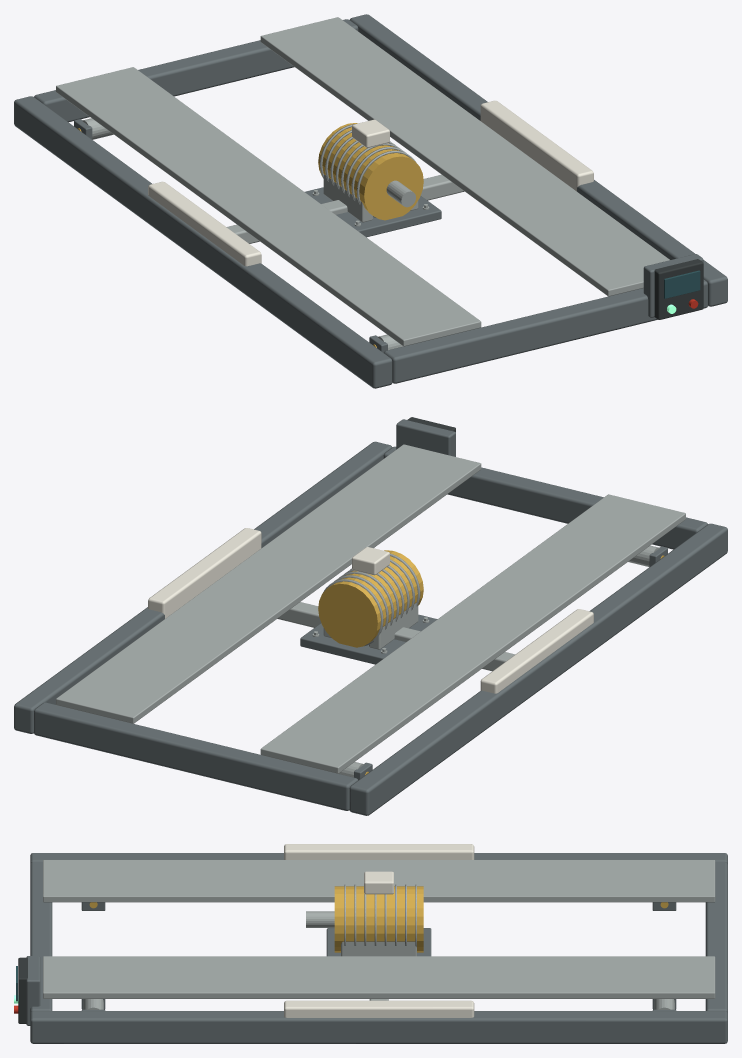
File: automated-parking-and-vehicle-retrieval-automated-park-a01d1152__30358.glb
The picture shows the model from 3 angles, top to bottom: view 1: azimuth 30°, elevation 25°; view 2: azimuth 150°, elevation 25°; view 3: azimuth 270°, elevation 25°; orthographic projection. The views are drawn at different scales.
Visible parts, largest first — view 1: automated-parking-and-vehicle-retrieval-pallet-transfer-shut (×6); view 2: automated-parking-and-vehicle-retrieval-pallet-transfer-shut (×4); view 3: automated-parking-and-vehicle-retrieval-pallet-transfer-shut (×5).
Boxes of the visible parts, x1,y1,x2,y2 form: automated-parking-and-vehicle-retrieval-pallet-transfer-shut (×6): (14, 14, 727, 388); automated-parking-and-vehicle-retrieval-pallet-transfer-shut (×4): (14, 419, 727, 815); automated-parking-and-vehicle-retrieval-pallet-transfer-shut (×5): (18, 844, 727, 1043).
Bounding box in the file's own units: 2.5 × 0.5899 × 4.5.
